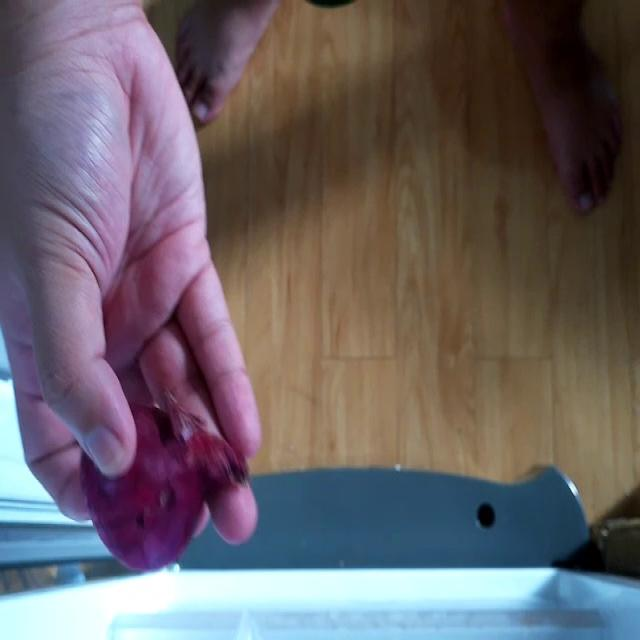onion: (87, 397, 233, 573)
